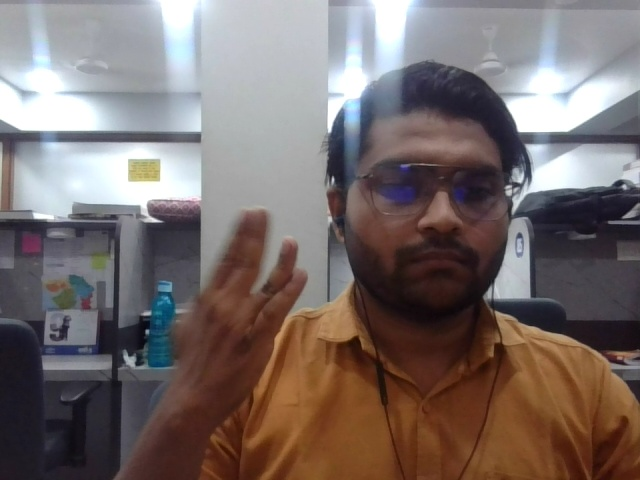LiveLong: (175, 200, 315, 418)
